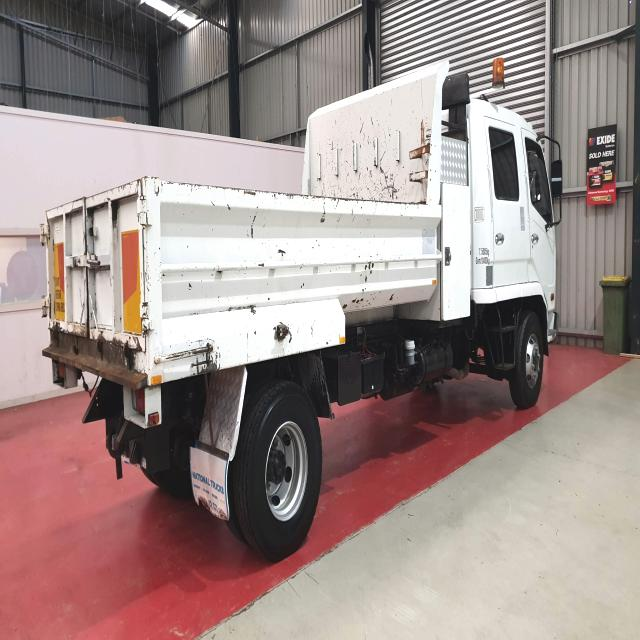truck: (42, 60, 562, 563)
